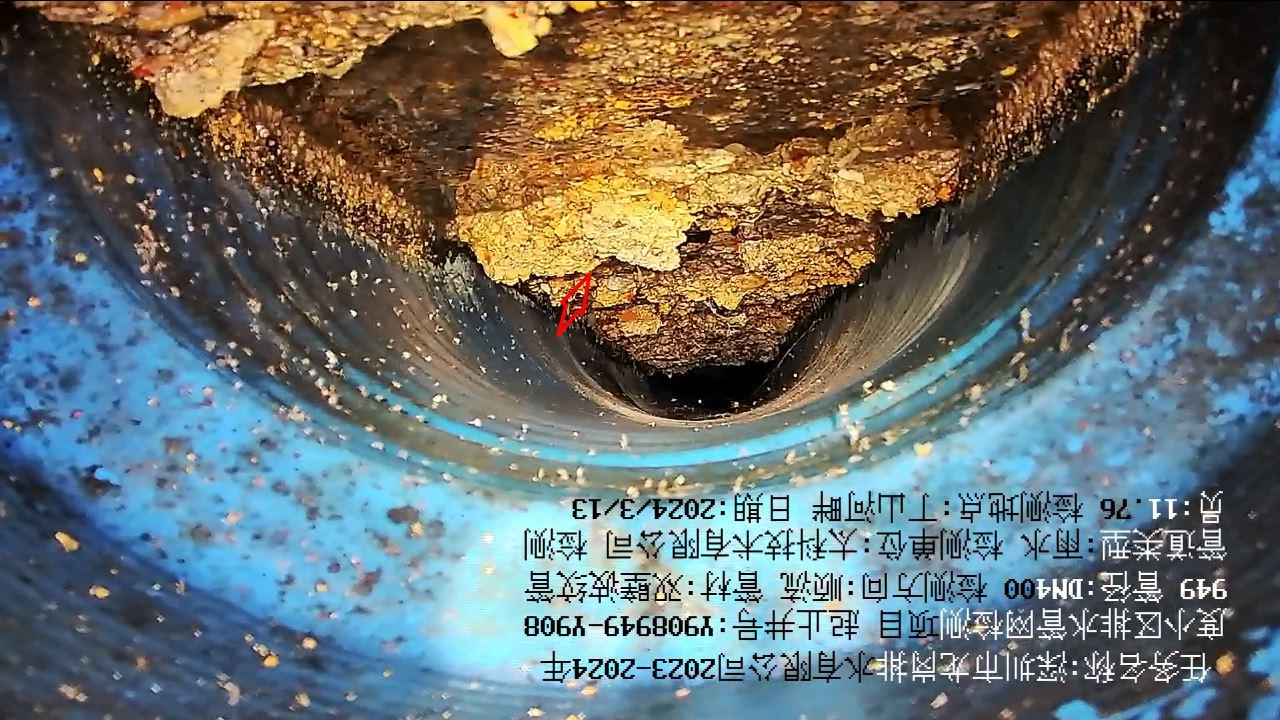CJ: (41, 3, 1175, 373)
